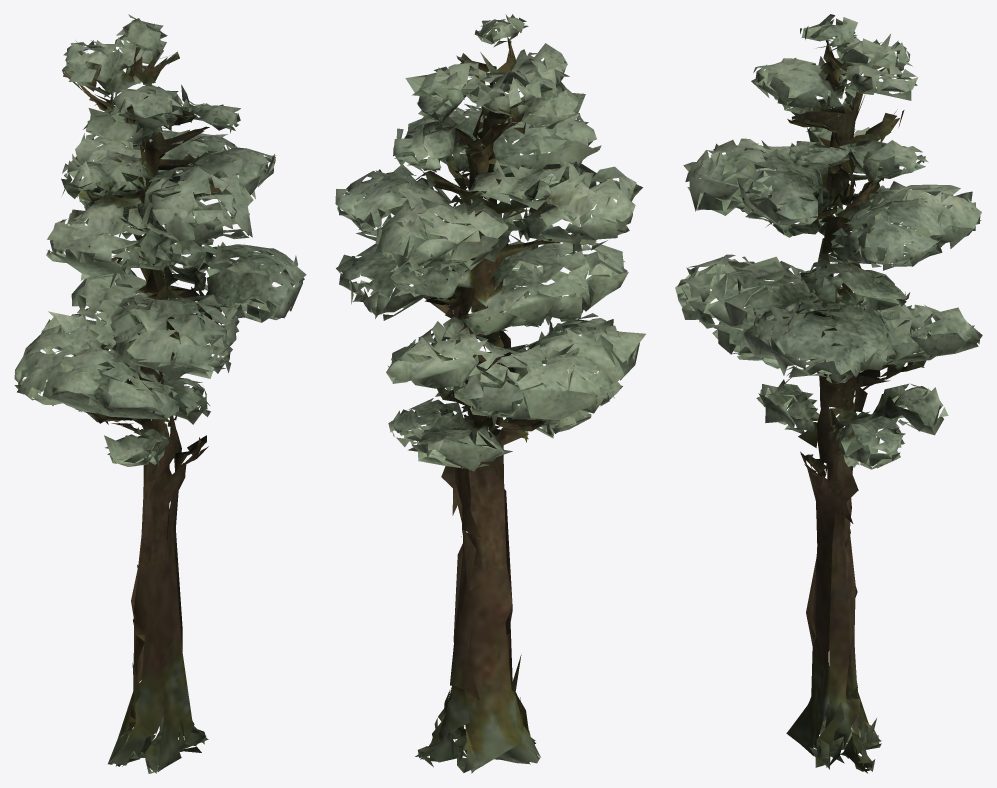
File: tree_tall_a_meshy_hd_l25.glb
3 views of the same model, side by side, from view 1: azimuth 30°, elevation 25°; view 2: azimuth 150°, elevation 25°; view 3: azimuth 270°, elevation 25° (orthographic). The views are drawn at different scales.
Parts seen in each view (by area): view 1: tree_tall_a_meshy_hd; view 2: tree_tall_a_meshy_hd; view 3: tree_tall_a_meshy_hd.
Boxes of the visible parts, bbox=[...] form: tree_tall_a_meshy_hd: bbox=[14, 14, 306, 773]; tree_tall_a_meshy_hd: bbox=[335, 14, 645, 773]; tree_tall_a_meshy_hd: bbox=[675, 14, 982, 773].
Size of the model in its own units: 1.99 by 5.1 by 1.94.
1 material, 1 textured.
